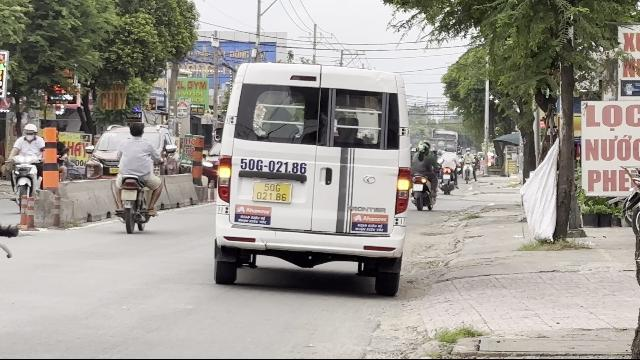licenseplate: (121, 188, 137, 199)
motorcyclist: (110, 120, 162, 232)
nohelmet: (128, 121, 144, 138)
